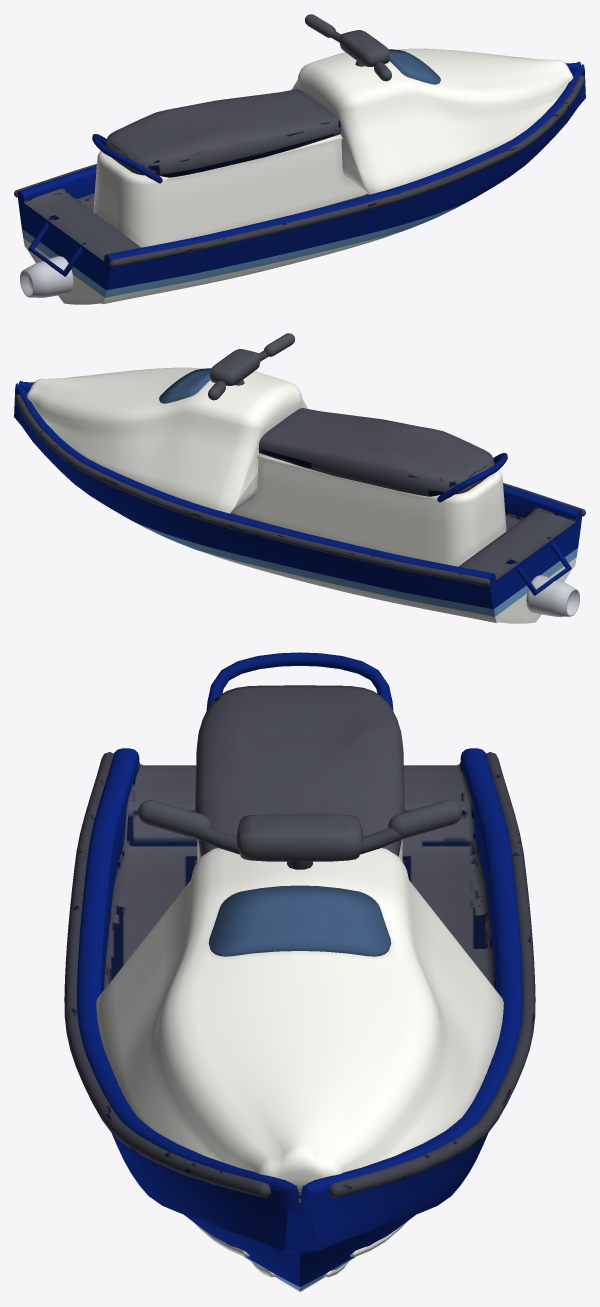
Rendered from sea-doo-gtx-230-2025.glb.
The picture shows the model from 3 angles, top to bottom: view 1: azimuth 30°, elevation 25°; view 2: azimuth 150°, elevation 25°; view 3: azimuth 270°, elevation 25°; orthographic projection. The views are drawn at different scales.
Parts seen in each view (by area): view 1: jet-ski_body, jet-ski_handlebar, jet-ski_jet_nozzle; view 2: jet-ski_body, jet-ski_handlebar, jet-ski_jet_nozzle; view 3: jet-ski_body, jet-ski_handlebar.
Part boxes in pixels (box(x1,y1,x2,y2)): jet-ski_body: box(14, 48, 585, 304); jet-ski_handlebar: box(305, 14, 391, 81); jet-ski_jet_nozzle: box(20, 256, 73, 297); jet-ski_body: box(14, 367, 585, 623); jet-ski_handlebar: box(208, 333, 294, 400); jet-ski_jet_nozzle: box(526, 575, 579, 616); jet-ski_body: box(64, 652, 535, 1292); jet-ski_handlebar: box(138, 800, 461, 869).
Size of the model in its own units: 3.58 by 1.21 by 1.32.
Materials: 4 (1 with a texture image).
